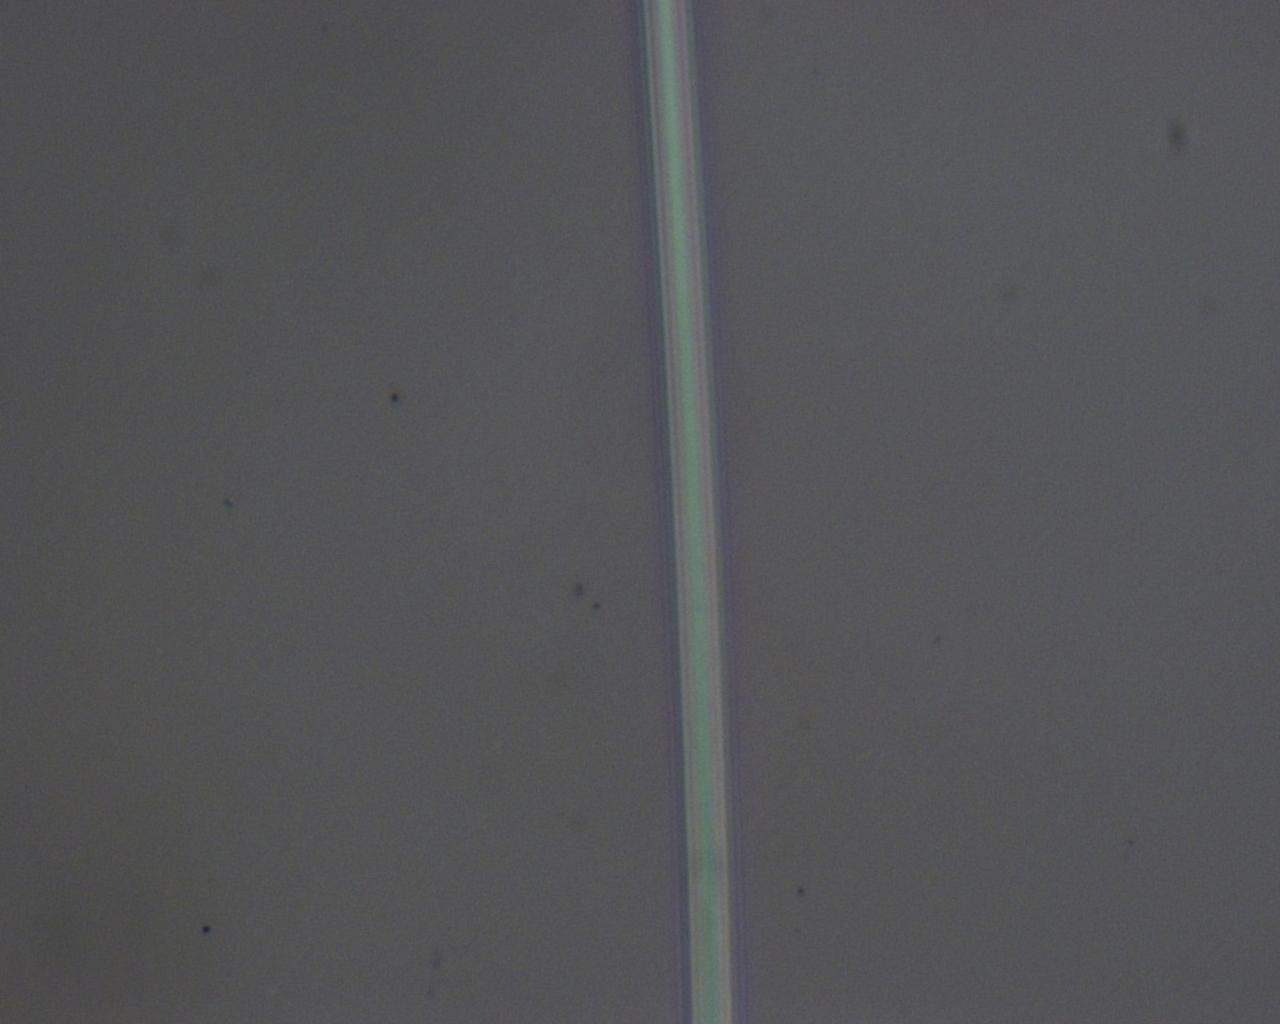fiber: (645, 0, 742, 1024)
